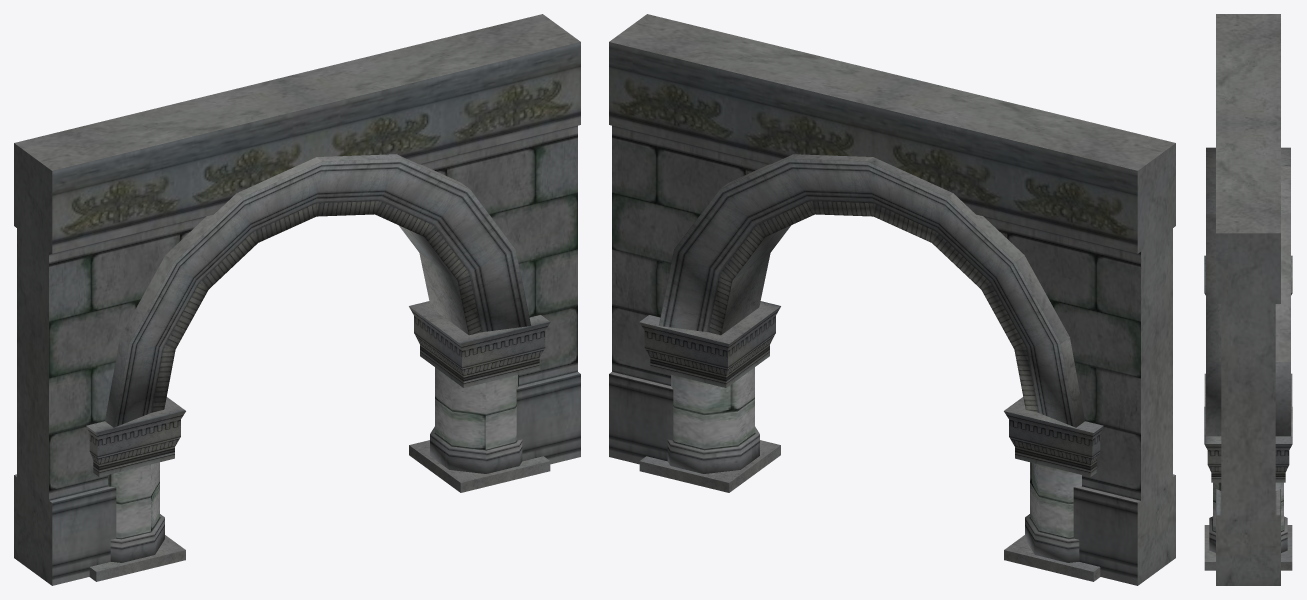
Rendered from door_arched_01_001.glb.
The picture shows the model from 3 angles, left to right: view 1: azimuth 30°, elevation 25°; view 2: azimuth 150°, elevation 25°; view 3: azimuth 270°, elevation 25°; orthographic projection. The views are drawn at different scales.
Visible parts, largest first — view 1: door_arched_01.001; view 2: door_arched_01.001; view 3: door_arched_01.001.
Part boxes in pixels (<box>): door_arched_01.001: <box>14,14,580,585</box>; door_arched_01.001: <box>609,14,1175,585</box>; door_arched_01.001: <box>1204,14,1292,585</box>.
Size of the model in its own units: 4 by 3 by 0.6817.
1 material, 1 textured.
